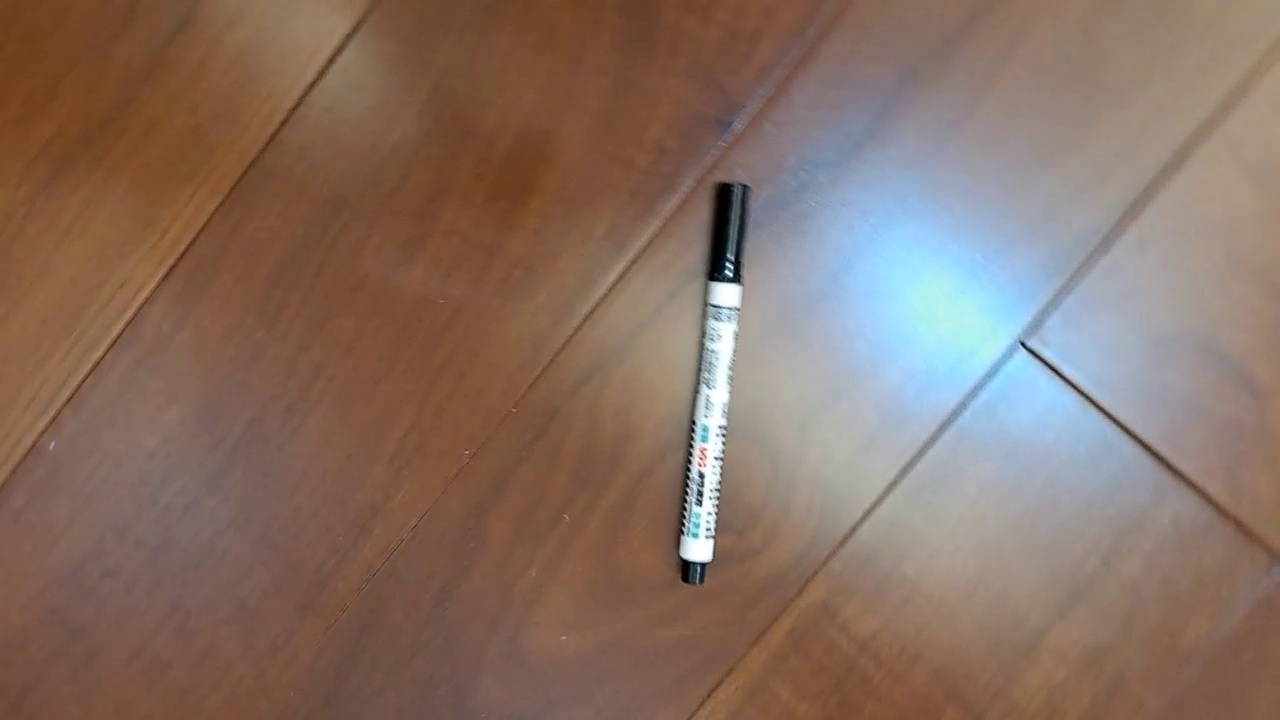pen: (676, 180, 752, 586)
